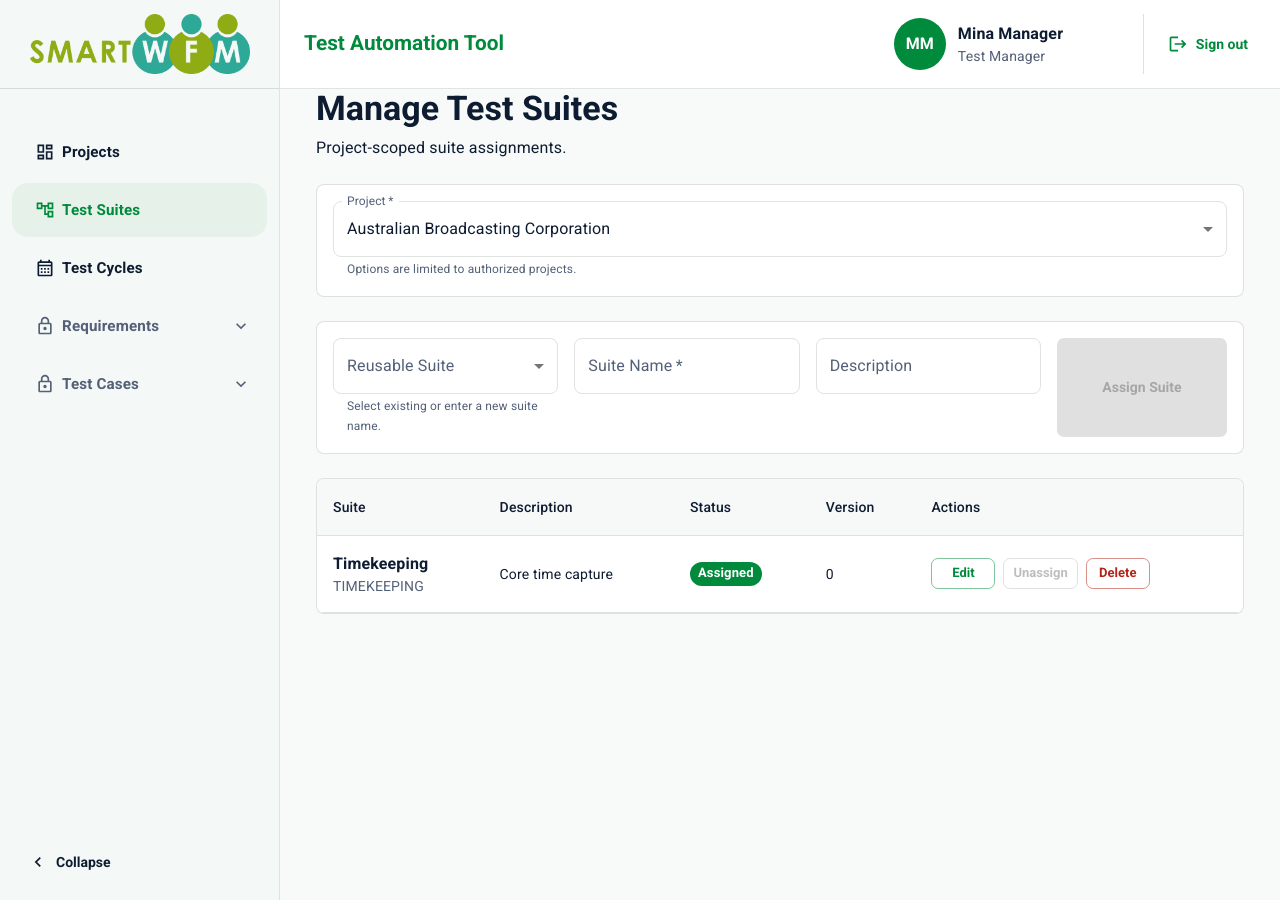
Test case: App shell › enforces the Test Manager permission set per project on suite actions
Expected: the heading "Manage Test Suites" is shown, x1=316 y1=88 x2=618 y2=128
Type "Wooles Regression" into the field labelled "Suite Name *" at coordinates (687, 366), box x1=574 y1=338 x2=800 y2=394
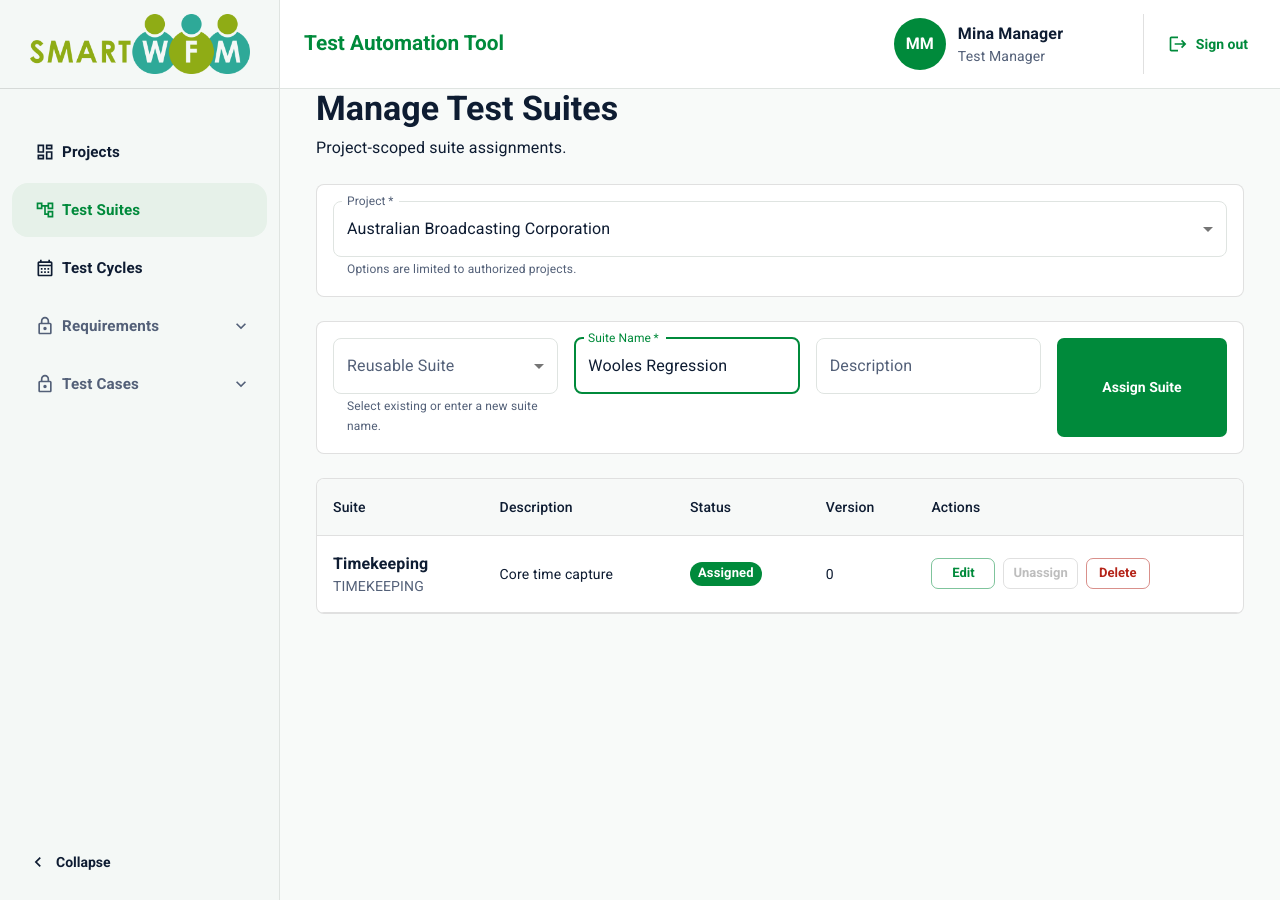
Expected: the button "Edit" is enabled, x1=931 y1=558 x2=995 y2=589
Expected: the button "Assign Suite" is enabled, x1=1057 y1=338 x2=1227 y2=437
